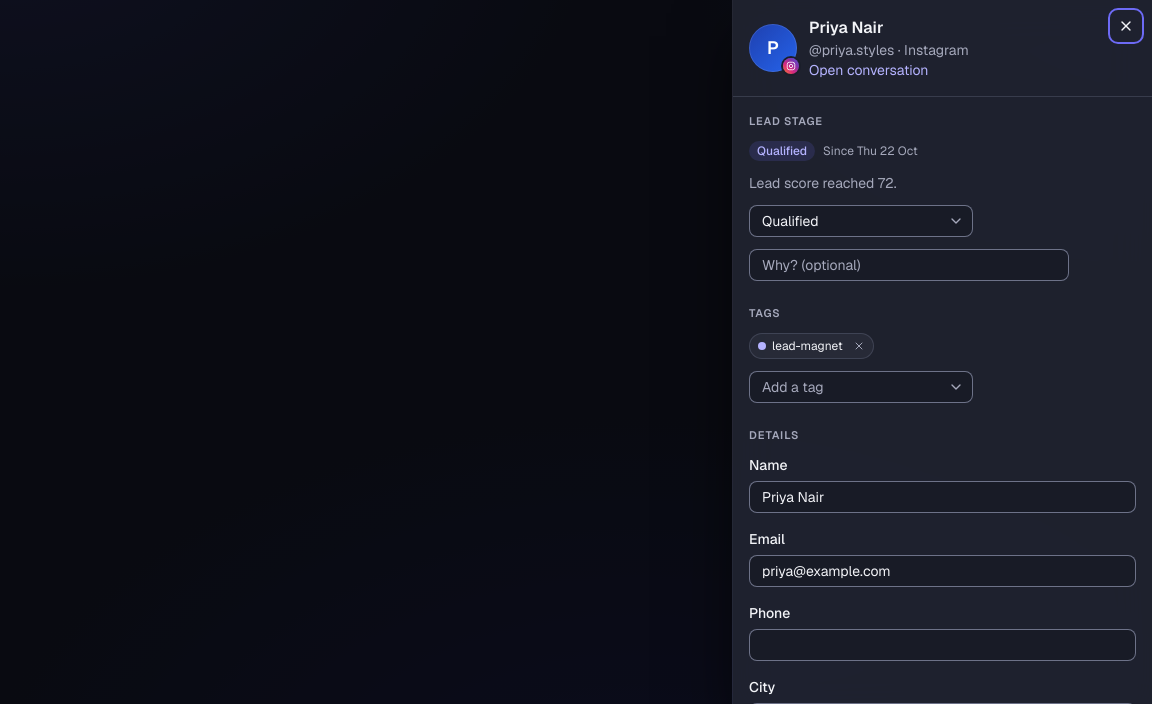
ContactDrawer (GR-17) › moves the lead to another stage with a note, for any member
Type "Paid in full" into the field labelled "Why? (optional)". click: x=909, y=265
box: top-left (749, 249), bottom-right (1069, 281)
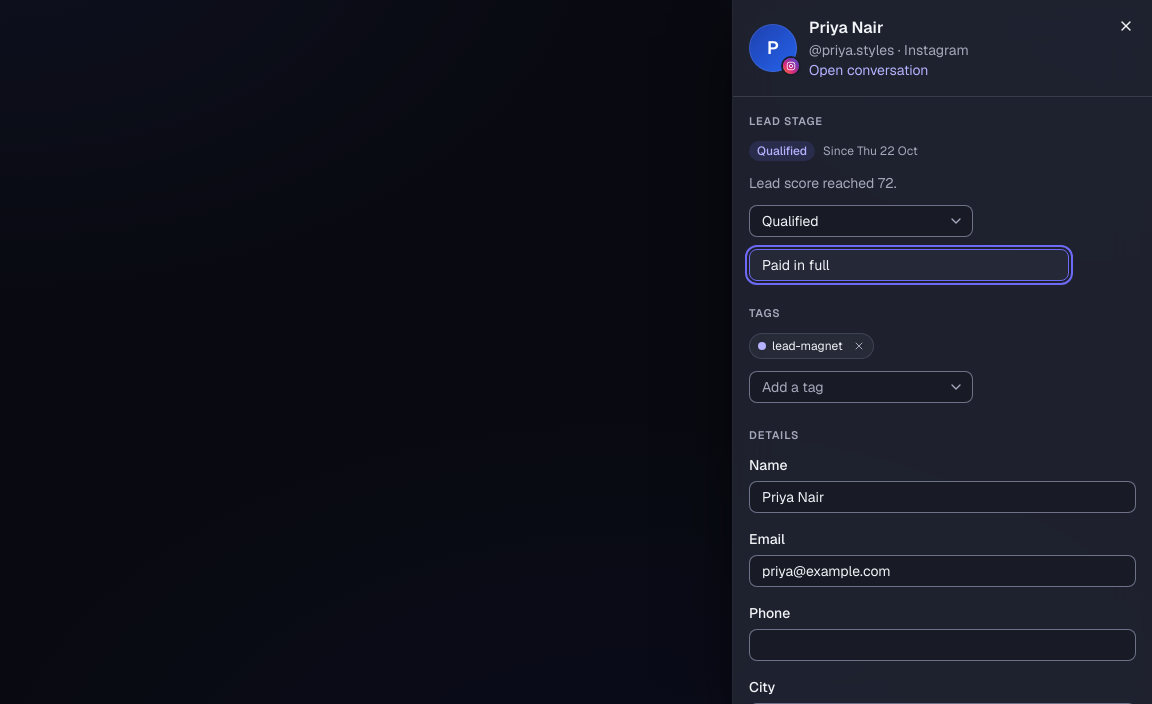
Click the dropdown named "Lead stage". click: x=861, y=221
box: top-left (749, 205), bottom-right (973, 237)
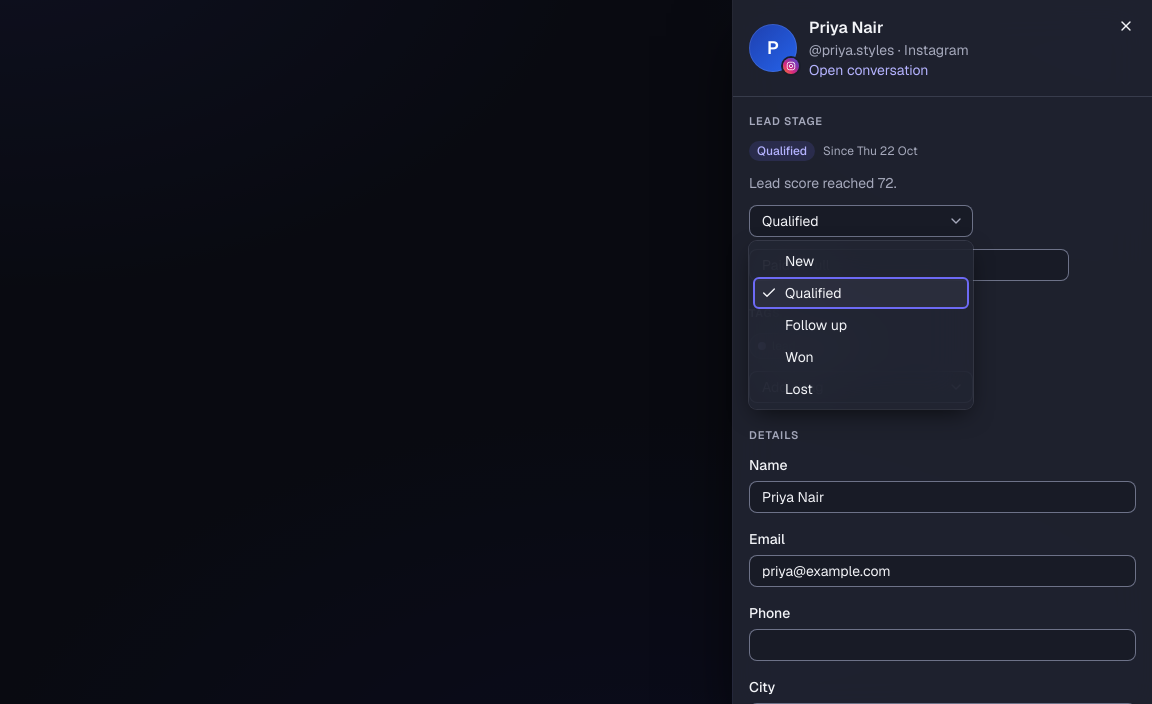
Click the option "Won". click: x=799, y=357
box: top-left (785, 348), bottom-right (814, 366)
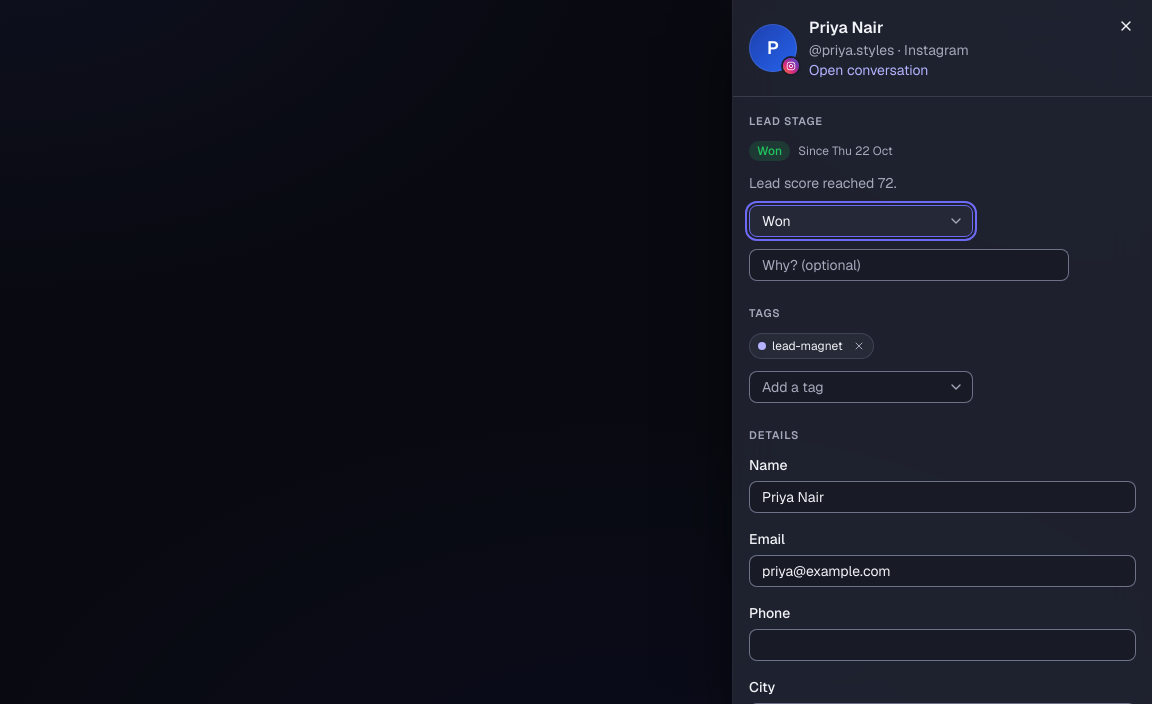
Expected: the text with test id "lead-stage" reads "Won", top-left (757, 143), bottom-right (782, 159)
Expected: the field labelled "Why? (optional)" is empty, top-left (749, 249), bottom-right (1069, 281)
